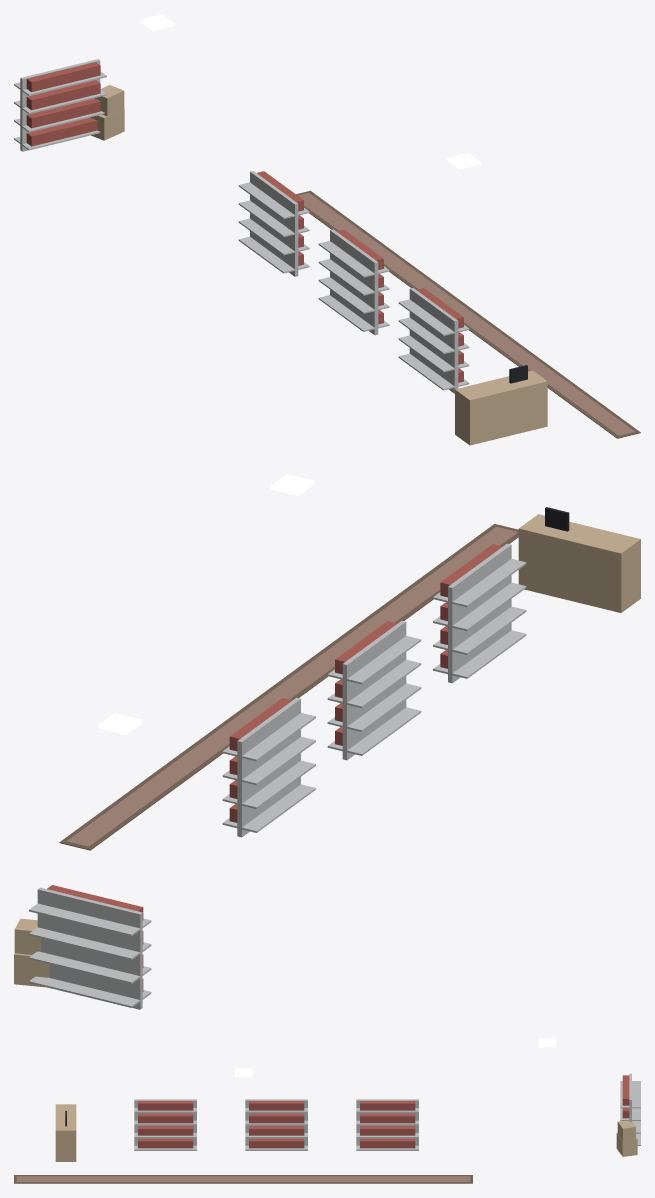
File: fine-s0.glb
3 renders of one model, top to bottom at view 1: azimuth 30°, elevation 25°; view 2: azimuth 150°, elevation 25°; view 3: azimuth 270°, elevation 25°, orthographic. The views are drawn at different scales.
Visible parts, largest first — view 1: soft-s0, shelving.000, shop-counter.000, shelf.002, shelf.001, shelf.000, cardboard-box.000; view 2: soft-s0, shelving.000, shop-counter.000, shelf.001, shelf.000, shelf.002, cardboard-box.000; view 3: soft-s0, shelf.000, shelf.001, shelf.002, shop-counter.000, shelving.000, cardboard-box.000.
Boxes of the visible parts, <box> form: soft-s0: <box>296,190,640,438</box>; shelving.000: <box>14,59,106,151</box>; shop-counter.000: <box>455,365,547,445</box>; shelf.002: <box>398,288,469,393</box>; shelf.001: <box>318,229,389,335</box>; shelf.000: <box>238,171,309,276</box>; cardboard-box.000: <box>90,85,124,140</box>; soft-s0: <box>59,524,518,850</box>; shelving.000: <box>29,885,151,1009</box>; shop-counter.000: <box>518,507,640,612</box>; shelf.001: <box>327,620,421,760</box>; shelf.000: <box>222,697,315,837</box>; shelf.002: <box>433,543,526,683</box>; cardboard-box.000: <box>14,918,49,987</box>; soft-s0: <box>14,1175,472,1183</box>; shelf.000: <box>356,1099,418,1150</box>; shelf.001: <box>245,1099,307,1150</box>; shelf.002: <box>134,1099,196,1150</box>; shop-counter.000: <box>55,1104,76,1161</box>; shelving.000: <box>620,1073,640,1145</box>; cardboard-box.000: <box>616,1121,637,1156</box>.
Bounding box in the file's own units: 4.06 × 3.42 × 18.07.
